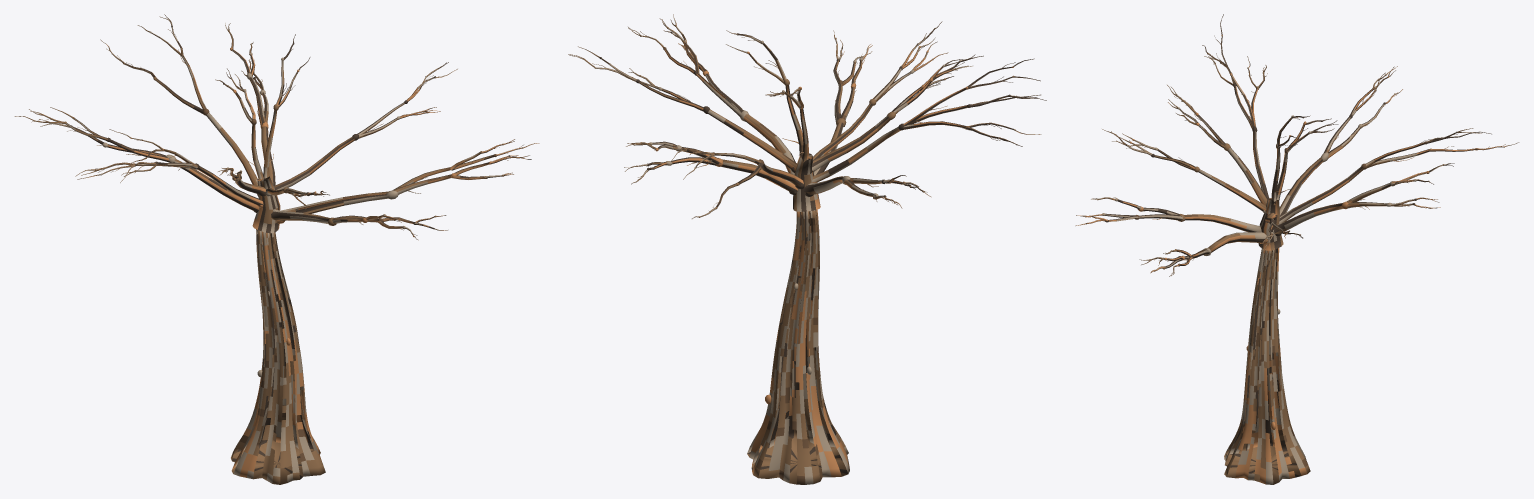
3 renders of one model, left to right at view 1: azimuth 30°, elevation 25°; view 2: azimuth 150°, elevation 25°; view 3: azimuth 270°, elevation 25°, orthographic. The views are drawn at different scales.
Parts seen in each view (by area): view 1: branch_and_twig_network, main_trunk; view 2: branch_and_twig_network, main_trunk; view 3: branch_and_twig_network, main_trunk.
Part boxes in pixels (box(x1,y1,x2,y2)): branch_and_twig_network: box(14, 14, 539, 240); main_trunk: box(231, 229, 325, 484); branch_and_twig_network: box(568, 14, 1046, 218); main_trunk: box(747, 209, 849, 484); branch_and_twig_network: box(1075, 14, 1519, 276); main_trunk: box(1224, 248, 1310, 484).
Bounding box in the file's own units: 6.22 × 5.69 × 6.21.
